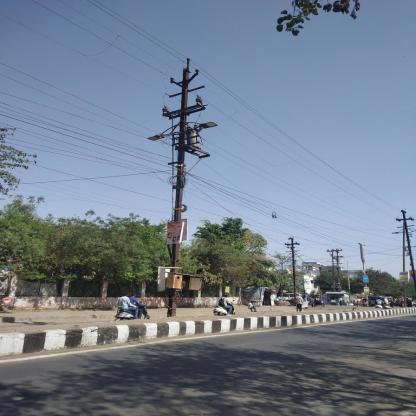Electrical Pole: (139, 52, 224, 319)
